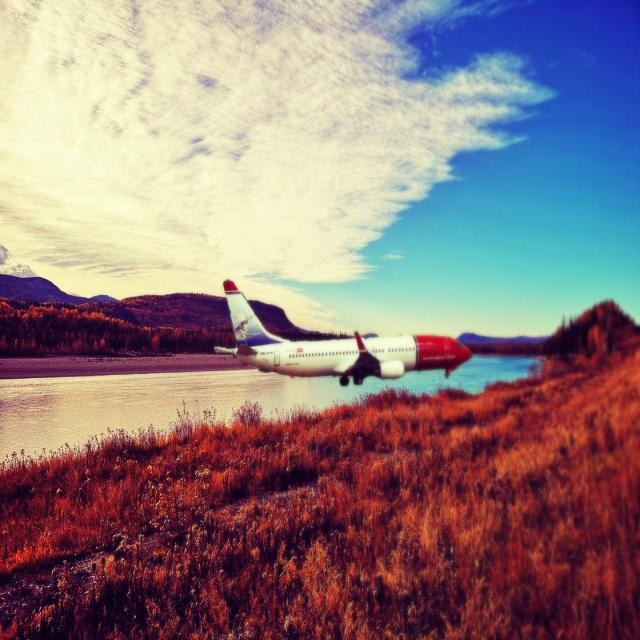airplane: (213, 278, 472, 386)
